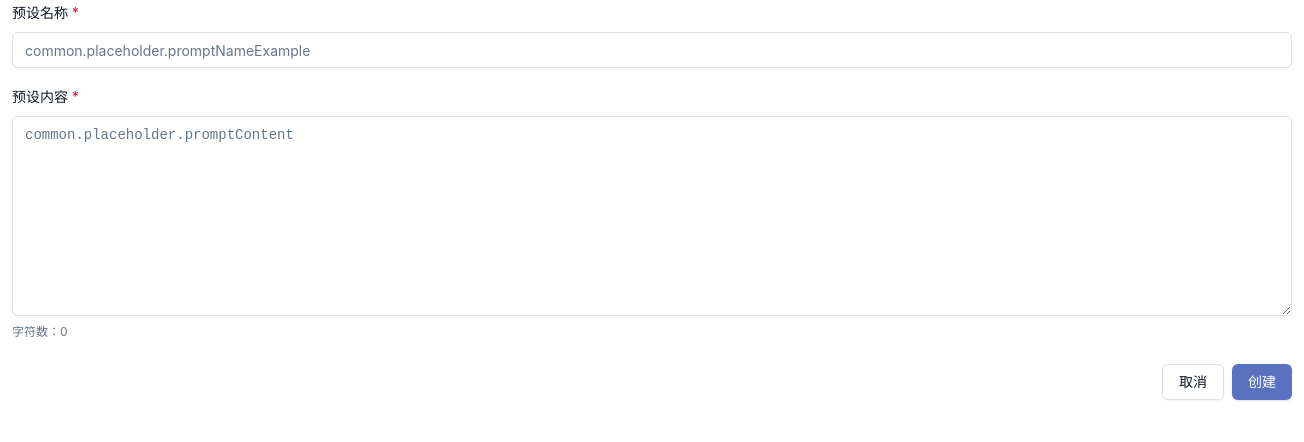
it: PromptForm › 内容为空应该显示错误
In the field labelled "预设名称 *": (652, 50) [12,32,1292,68], type "测试预设"
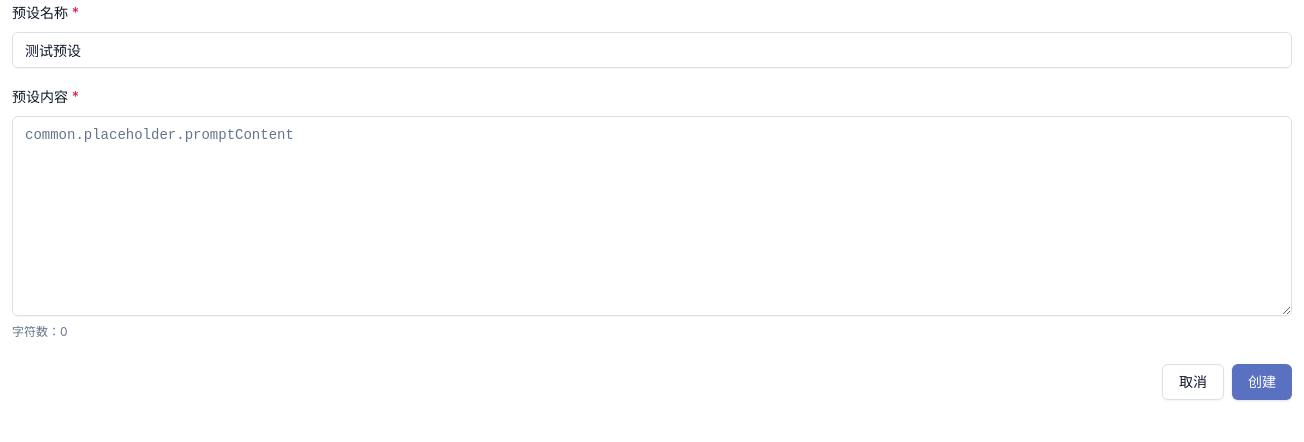
Click the button "创建": (1262, 382) [1232,364,1292,400]
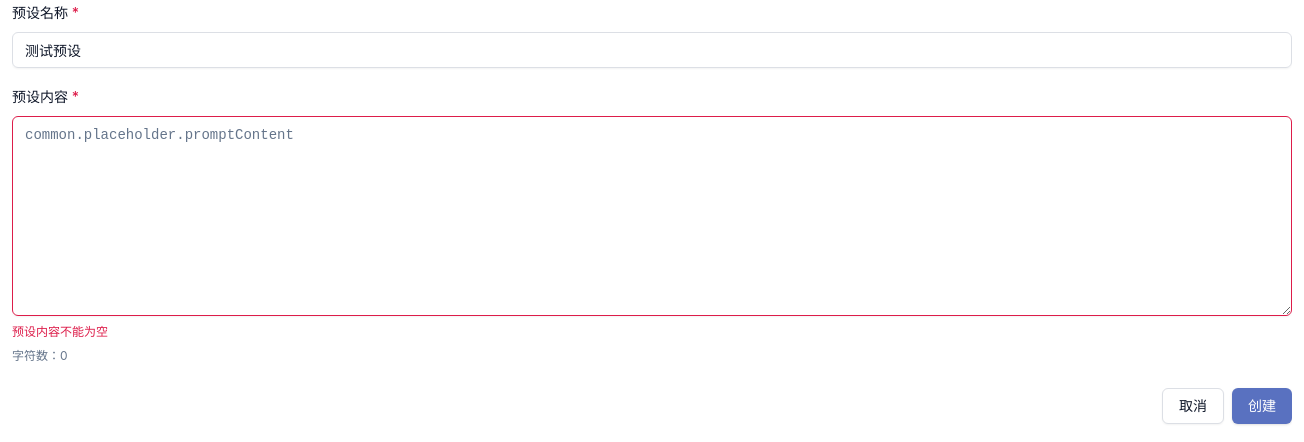
Result: the text "预设内容不能为空" is shown at [12,324,108,339]
